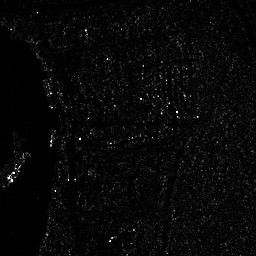ship: (5, 150, 32, 183)
